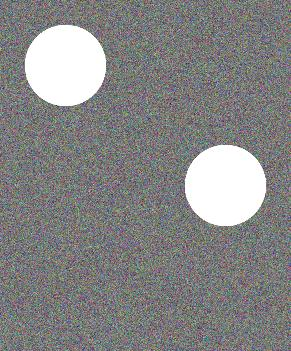E: (16, 15, 273, 338)
